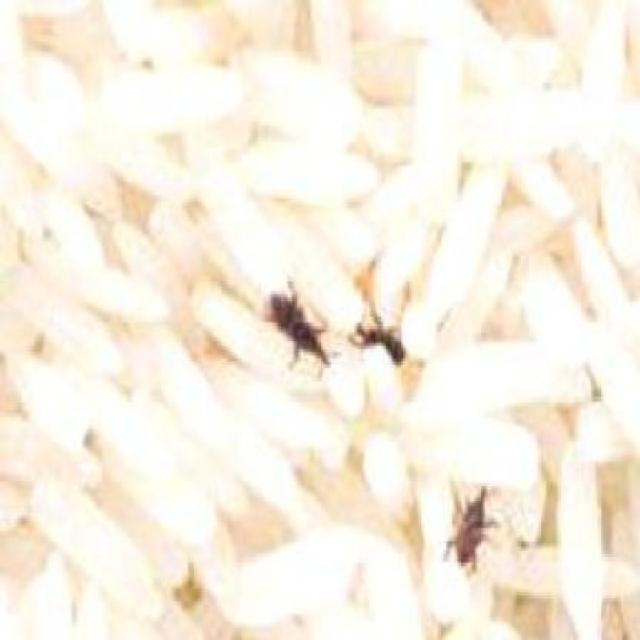rice-bug: (272, 276, 332, 372), (446, 480, 500, 572), (349, 302, 406, 366)
